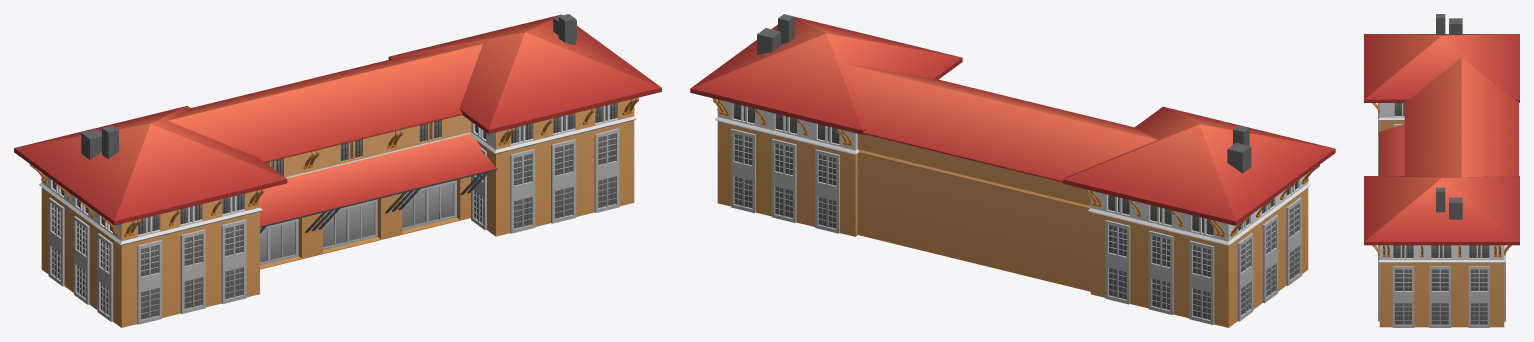
File: trengari.fbx
3 views of the same model, side by side, from view 1: azimuth 30°, elevation 25°; view 2: azimuth 150°, elevation 25°; view 3: azimuth 270°, elevation 25° (orthographic). The views are drawn at different scales.
Visible parts, largest first — view 1: Adana Tren Garı; view 2: Adana Tren Garı; view 3: Adana Tren Garı.
Boxes of the visible parts, bbox=[...] form: Adana Tren Garı: bbox=[14, 14, 661, 327]; Adana Tren Garı: bbox=[690, 14, 1335, 327]; Adana Tren Garı: bbox=[1364, 14, 1519, 327].
Size of the model in its own units: 2881 by 821 by 911.
